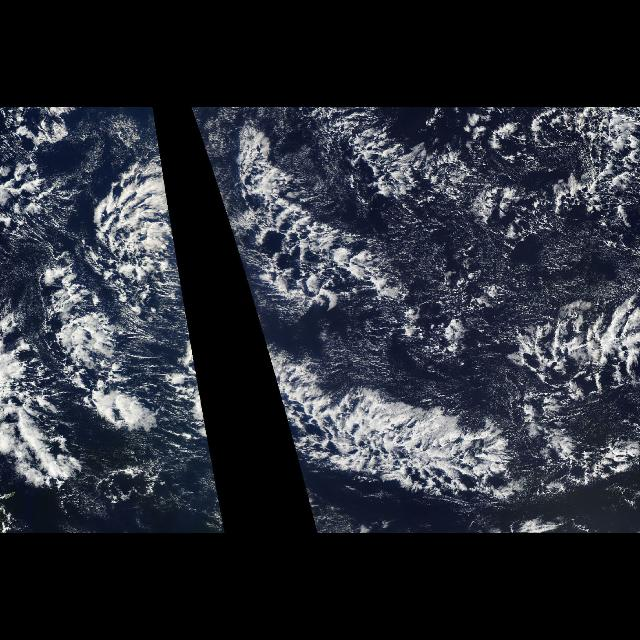Fish: (198, 108, 640, 512), (5, 132, 222, 512)
Sugar: (330, 204, 634, 412)
